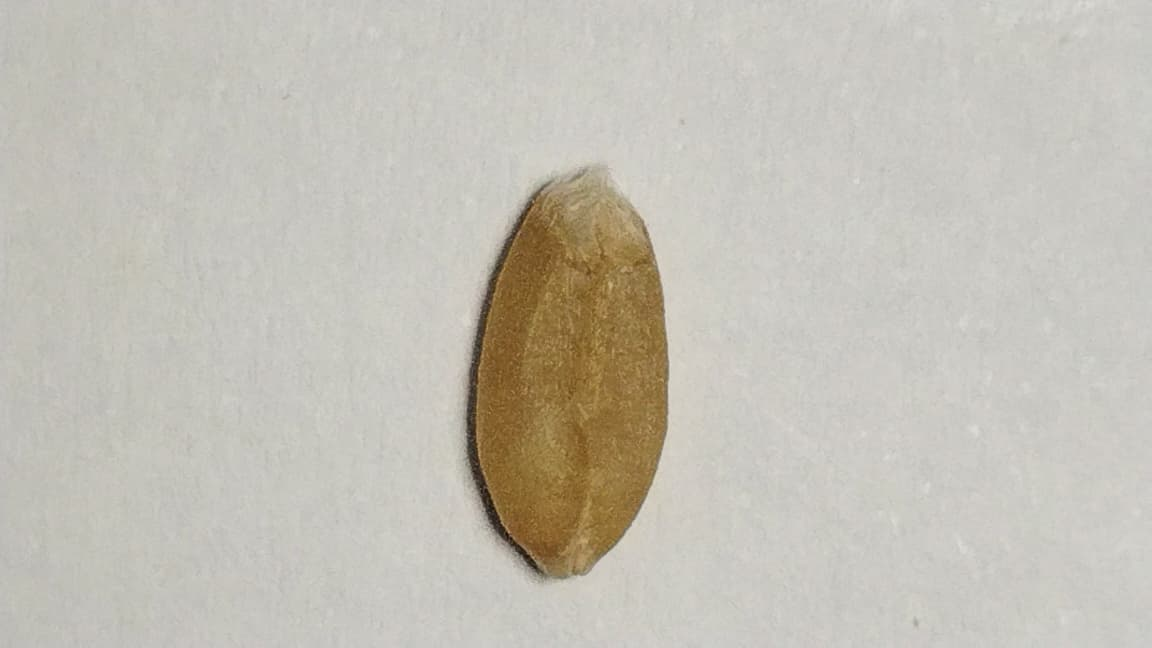healthy: (474, 167, 668, 576)
